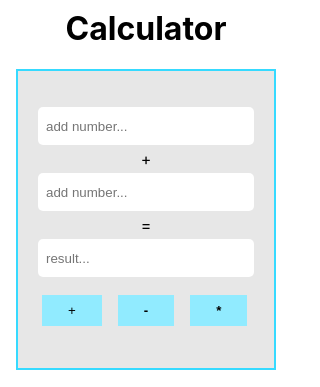
Test: Calculator functionalities › Addition of two numbers
This screenshot has width=320, height=387.
In the number field with test id "input1": (146, 126) [38, 107, 254, 145], type "5"
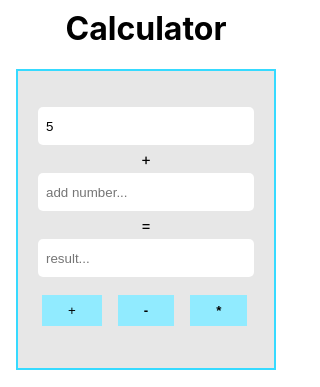
In the number field with test id "input2": (146, 192) [38, 173, 254, 211], type "3"
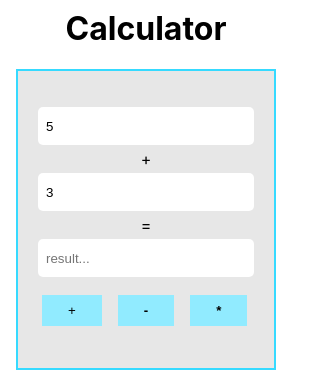
Click the button with test id "add": (72, 311) [42, 295, 102, 326]
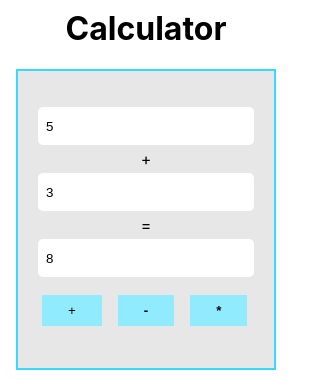
Now the field with test id "result" holds "8", box [38, 239, 254, 277]
